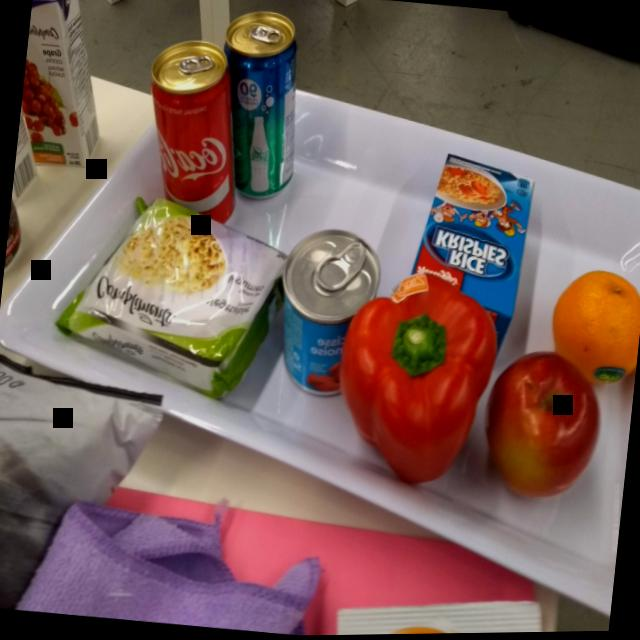apple: (477, 346, 612, 513)
cereal: (406, 146, 542, 317)
coke: (132, 31, 254, 232)
grape_juice: (14, 0, 117, 174)
noodles: (48, 185, 297, 411)
orange: (542, 265, 640, 398)
paprika: (326, 263, 506, 498)
sprite: (209, 3, 313, 208)
